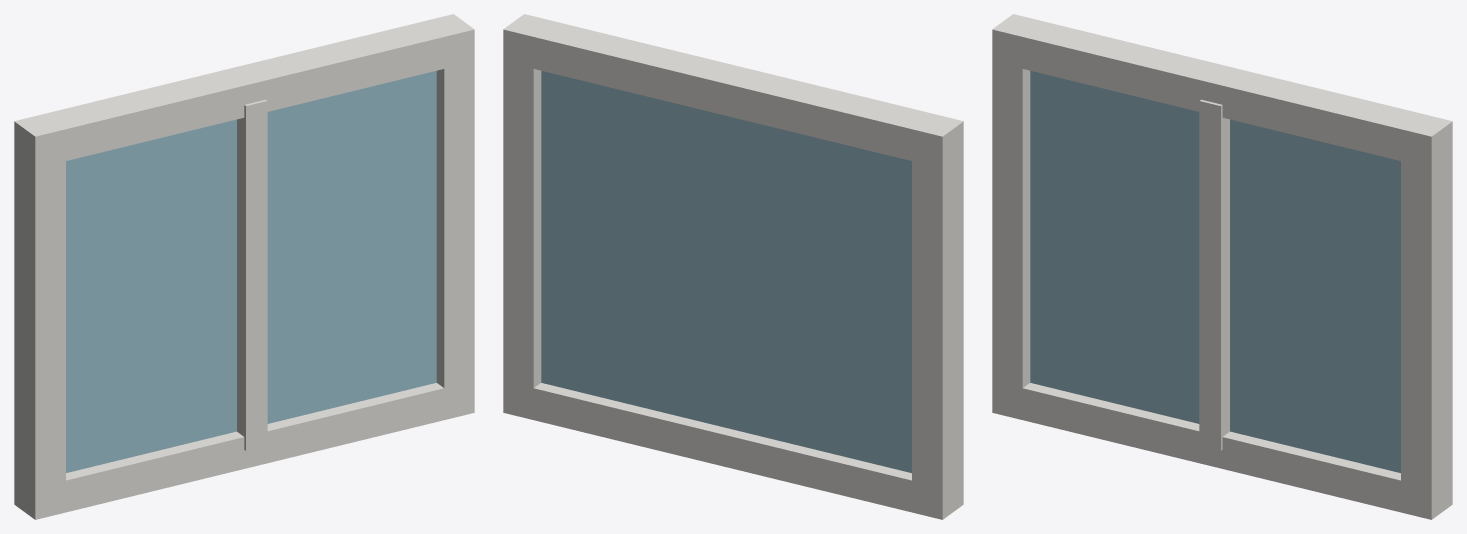
3 renders of one model, left to right at view 1: azimuth 30°, elevation 25°; view 2: azimuth 150°, elevation 25°; view 3: azimuth 330°, elevation 25°, orthographic.
Parts seen in each view (by area): view 1: Glass, Frame.Top, Frame.L, Frame.Bottom, Frame.R, Mullion; view 2: Glass, Frame.Top, Frame.L, Frame.Bottom, Frame.R; view 3: Glass, Frame.Top, Frame.R, Frame.Bottom, Frame.L, Mullion.
Part boxes in pixels (x1=…): Glass: x1=66, y1=71, x2=436, y2=472; Frame.Top: x1=31, y1=18, x2=459, y2=163; Frame.L: x1=14, y1=114, x2=65, y2=519; Frame.Bottom: x1=50, y1=383, x2=459, y2=515; Frame.R: x1=424, y1=14, x2=474, y2=419; Mullion: x1=237, y1=99, x2=267, y2=450; Glass: x1=541, y1=71, x2=911, y2=472; Frame.Top: x1=518, y1=20, x2=947, y2=164; Frame.L: x1=912, y1=114, x2=963, y2=519; Frame.Bottom: x1=518, y1=383, x2=927, y2=512; Frame.R: x1=503, y1=14, x2=554, y2=419; Glass: x1=1030, y1=71, x2=1400, y2=472; Frame.Top: x1=1007, y1=17, x2=1434, y2=163; Frame.R: x1=1401, y1=114, x2=1452, y2=519; Frame.Bottom: x1=1007, y1=383, x2=1416, y2=515; Frame.L: x1=992, y1=14, x2=1043, y2=419; Mullion: x1=1199, y1=99, x2=1229, y2=450.
Bounding box in the file's own units: 1.44 × 1.2 × 0.13.
